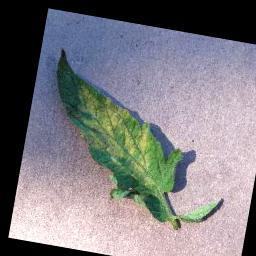Leaf_Mold: (63, 82, 171, 188)
